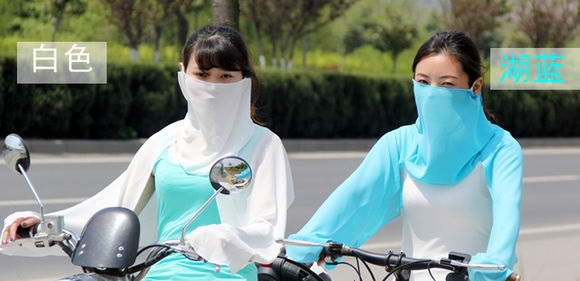face_mask: (185, 56, 242, 124), (413, 56, 468, 118)
